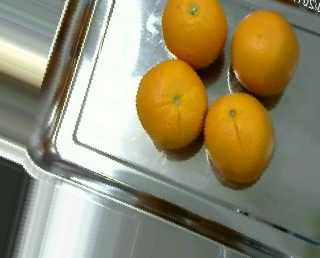Orange: (204, 91, 277, 185), (135, 60, 206, 151), (230, 7, 300, 95), (161, 1, 227, 69)
